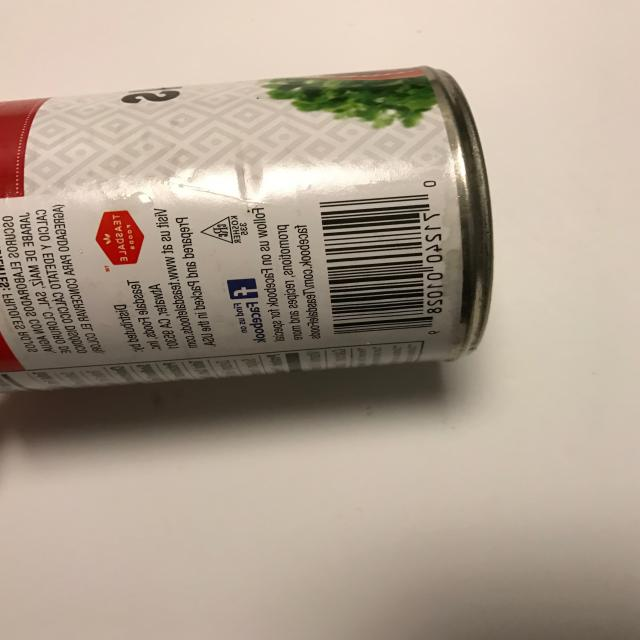metal: (0, 64, 495, 394)
